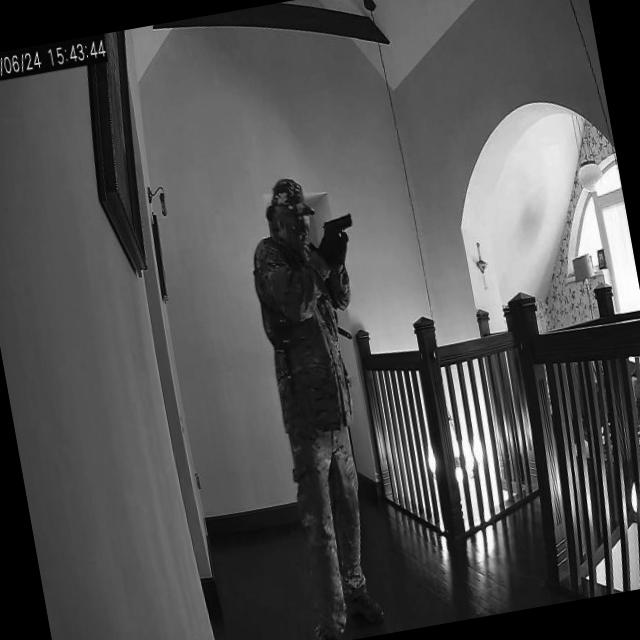gun: (320, 208, 358, 254)
person with a gun: (236, 171, 390, 640)
